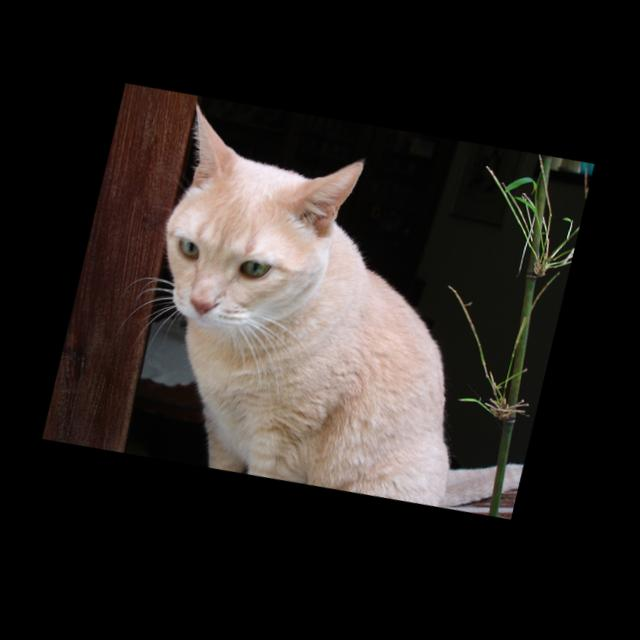animals: (152, 99, 369, 343)
